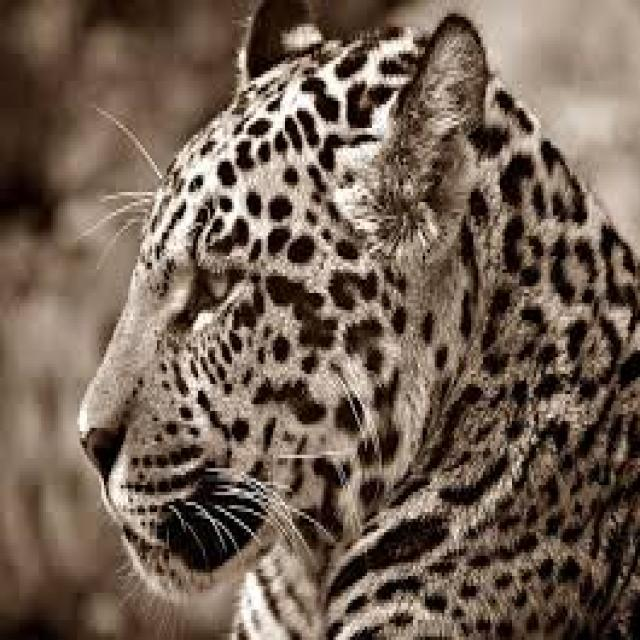Jaguar: (79, 27, 640, 640)
